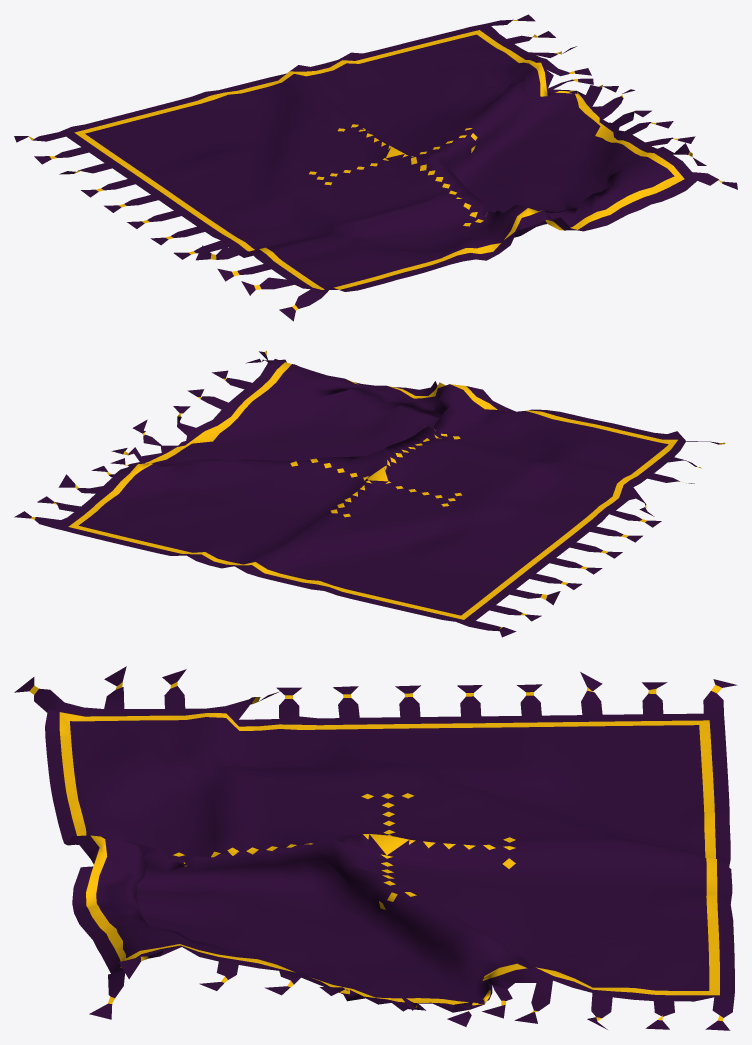
Rendered from Teppich_Kreuz_var1.obj.
3 renders of one model, top to bottom at view 1: azimuth 30°, elevation 25°; view 2: azimuth 150°, elevation 25°; view 3: azimuth 270°, elevation 25°, orthographic. The views are drawn at different scales.
Visible parts, largest first — view 1: Teppich_var2; view 2: Teppich_var2; view 3: Teppich_var2.
Boxes of the visible parts, bbox=[...] form: Teppich_var2: bbox=[14, 14, 737, 321]; Teppich_var2: bbox=[14, 350, 725, 637]; Teppich_var2: bbox=[14, 666, 737, 1030].
Size of the model in its own units: 2.39 by 0.2061 by 2.1.
